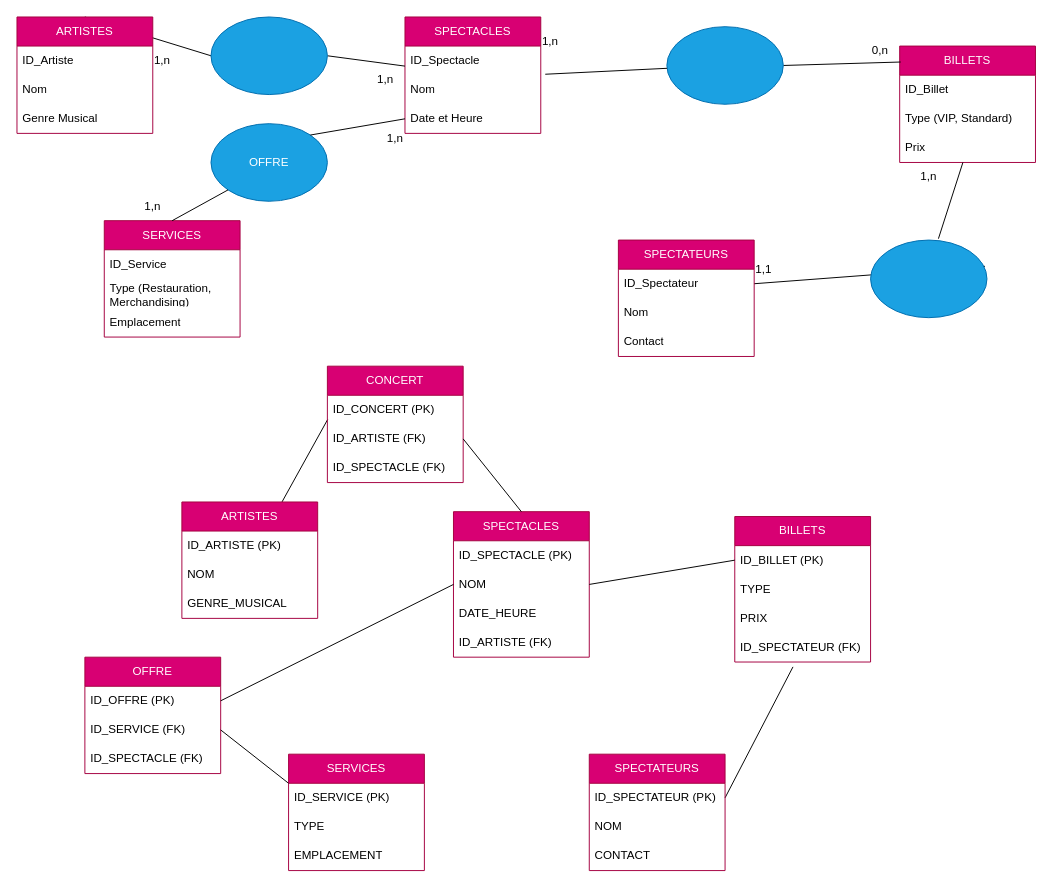
Image size: 1052x888. Some labels were removed from this diagram. The shapes that lost their labels are listed below. From the top down, each one's centre as x and y in pixels, then its label:
At (268,55): "PARTICIPE".
At (724,65): "VEND".
At (928,278): "ACHETE".
